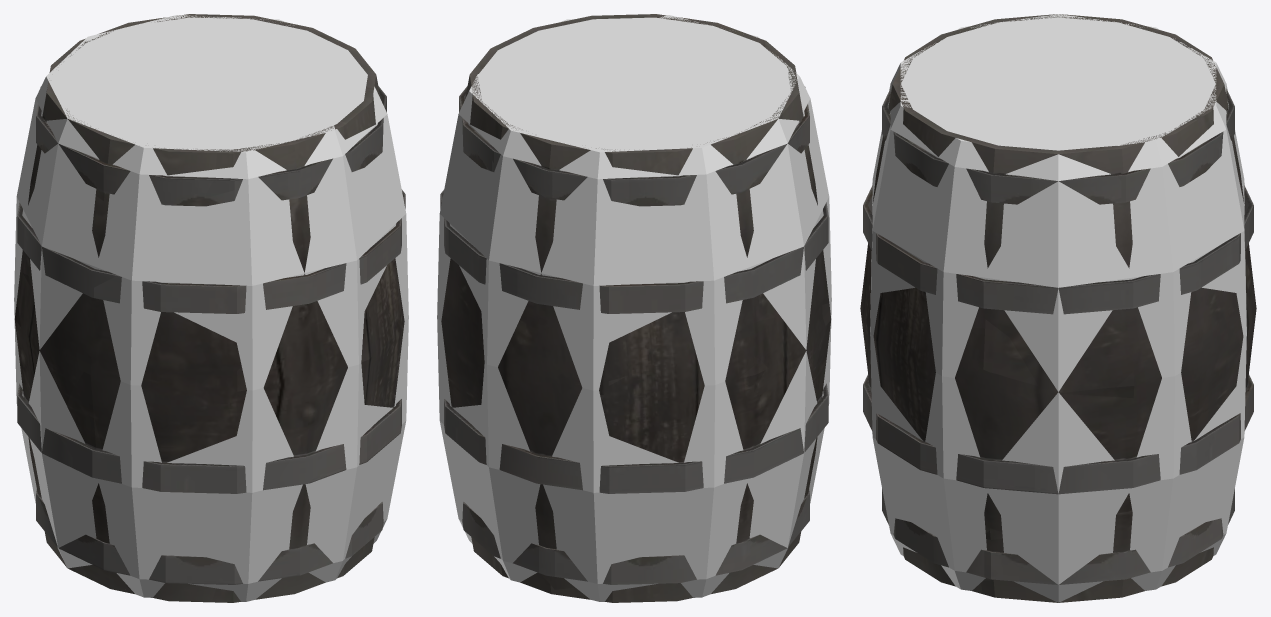
The model's file is barrel.webp.glb.
The picture shows the model from 3 angles, left to right: view 1: azimuth 30°, elevation 25°; view 2: azimuth 150°, elevation 25°; view 3: azimuth 270°, elevation 25°; orthographic projection.
Visible parts, largest first — view 1: COL, LOD0_body, FRAC_2, FRAC_0, FRAC_6, FRAC_3, FRAC_1, FRAC_5, FRAC_4; view 2: COL, LOD0_body, FRAC_3, FRAC_2, FRAC_6, FRAC_4, FRAC_0, FRAC_7, FRAC_5; view 3: COL, LOD0_body, FRAC_7, FRAC_1, FRAC_5, FRAC_4, FRAC_2, FRAC_0, FRAC_6, FRAC_3.
Boxes of the visible parts, x1,y1,x2,y2 form: COL: (14, 15, 408, 601); LOD0_body: (17, 14, 404, 602); FRAC_2: (17, 373, 382, 602); FRAC_0: (14, 302, 361, 526); FRAC_6: (17, 202, 391, 311); FRAC_3: (30, 72, 325, 200); FRAC_1: (23, 273, 401, 463); FRAC_5: (234, 27, 380, 199); FRAC_4: (36, 487, 134, 593); COL: (437, 15, 831, 601); LOD0_body: (441, 16, 829, 602); FRAC_3: (470, 77, 809, 233); FRAC_2: (451, 408, 828, 538); FRAC_6: (539, 202, 828, 313); FRAC_4: (463, 502, 800, 602); FRAC_0: (444, 303, 831, 441); FRAC_7: (440, 134, 539, 296); FRAC_5: (464, 14, 665, 99); COL: (870, 14, 1246, 602); LOD0_body: (860, 14, 1256, 593); FRAC_7: (904, 147, 1253, 398); FRAC_1: (863, 315, 1150, 492); FRAC_5: (890, 98, 1141, 204); FRAC_4: (981, 498, 1233, 602); FRAC_2: (882, 374, 1253, 580); FRAC_0: (865, 334, 1248, 539); FRAC_6: (863, 185, 1252, 279); FRAC_3: (891, 84, 1234, 149).
Bounding box in the file's own units: 0.8 × 1 × 0.8.
Materials: 1 (1 with a texture image).
